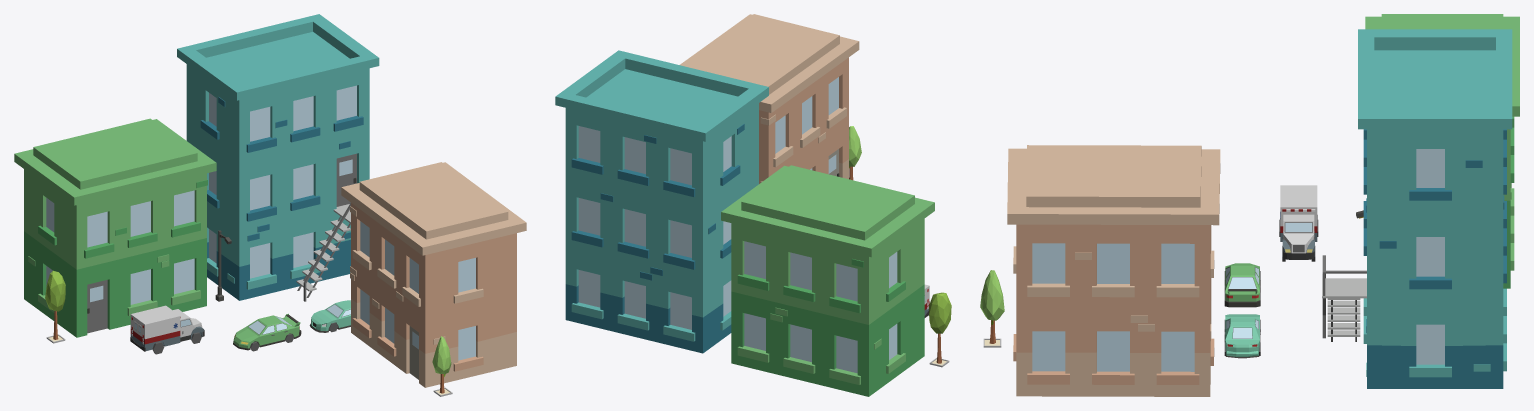
Rendered from squareScene.glb.
3 renders of one model, left to right at view 1: azimuth 30°, elevation 25°; view 2: azimuth 150°, elevation 25°; view 3: azimuth 270°, elevation 25°, orthographic. The views are drawn at different scales.
Parts seen in each view (by area): view 1: Building_3, Building_6, Building_5, Ambulance, Car_1_2, Car_3_2, Tree_2, Tree_1; view 2: Building_3, Building_6, Building_5, Tree_2, Tree_1; view 3: Building_3, Building_5, Building_6, Ambulance, Car_3_2, Car_1_2, Tree_1.
Boxes of the visible parts, x1,y1,x2,y2 form: Building_3: [177, 14, 379, 301]; Building_6: [14, 118, 216, 337]; Building_5: [341, 162, 526, 387]; Ambulance: [130, 305, 204, 354]; Car_1_2: [233, 313, 301, 351]; Car_3_2: [309, 300, 350, 332]; Tree_2: [45, 270, 65, 343]; Tree_1: [432, 336, 452, 396]; Building_3: [555, 50, 768, 353]; Building_6: [721, 165, 934, 396]; Building_5: [680, 14, 859, 183]; Tree_2: [929, 292, 951, 367]; Tree_1: [849, 126, 861, 180]; Building_3: [1322, 29, 1512, 388]; Building_5: [1007, 145, 1220, 396]; Building_6: [1365, 14, 1519, 288]; Ambulance: [1279, 185, 1318, 261]; Car_3_2: [1224, 314, 1260, 358]; Car_1_2: [1224, 263, 1260, 307]; Tree_1: [980, 270, 1004, 347].
Size of the model in its own units: 0.4119 by 0.2496 by 0.4455.
Materials: 2 (2 with a texture image).
